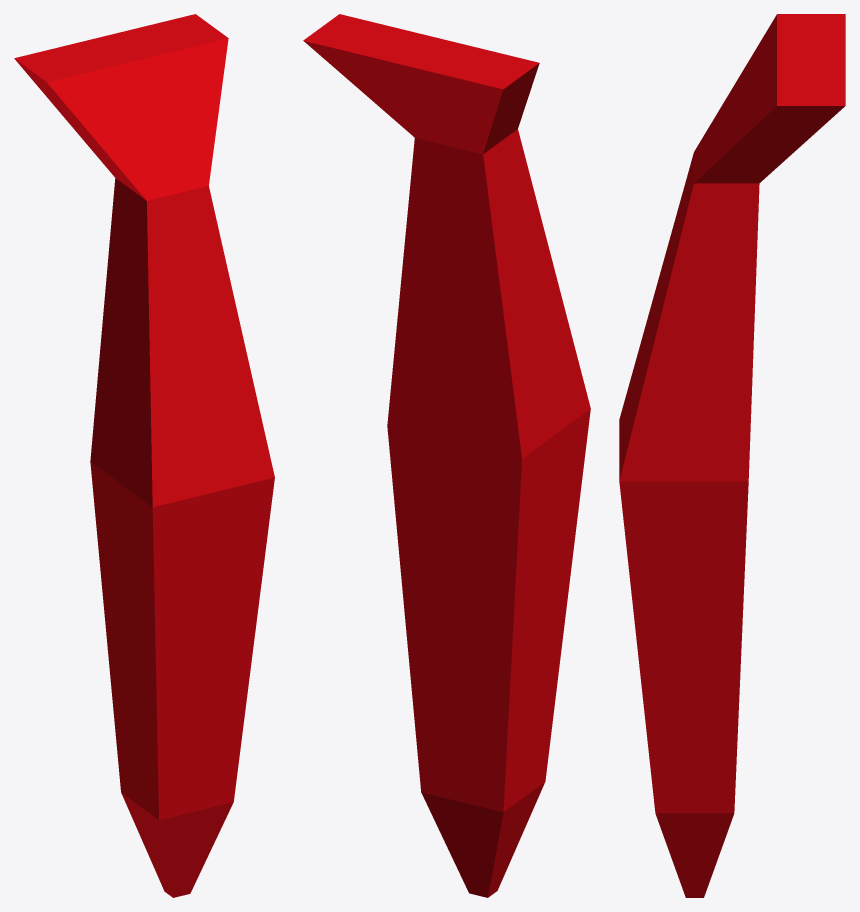
Rendered from Tie Red.fbx.
3 views of the same model, side by side, from view 1: azimuth 30°, elevation 25°; view 2: azimuth 150°, elevation 25°; view 3: azimuth 270°, elevation 25° (orthographic). The views are drawn at different scales.
Visible parts, largest first — view 1: Tie Red; view 2: Tie Red; view 3: Tie Red.
Boxes of the visible parts, bbox=[...] form: Tie Red: bbox=[14, 14, 274, 897]; Tie Red: bbox=[303, 14, 590, 897]; Tie Red: bbox=[619, 14, 845, 897].
Bounding box in the file's own units: 11.47 × 48.49 × 11.93.
Materials: 1 (1 with a texture image).
